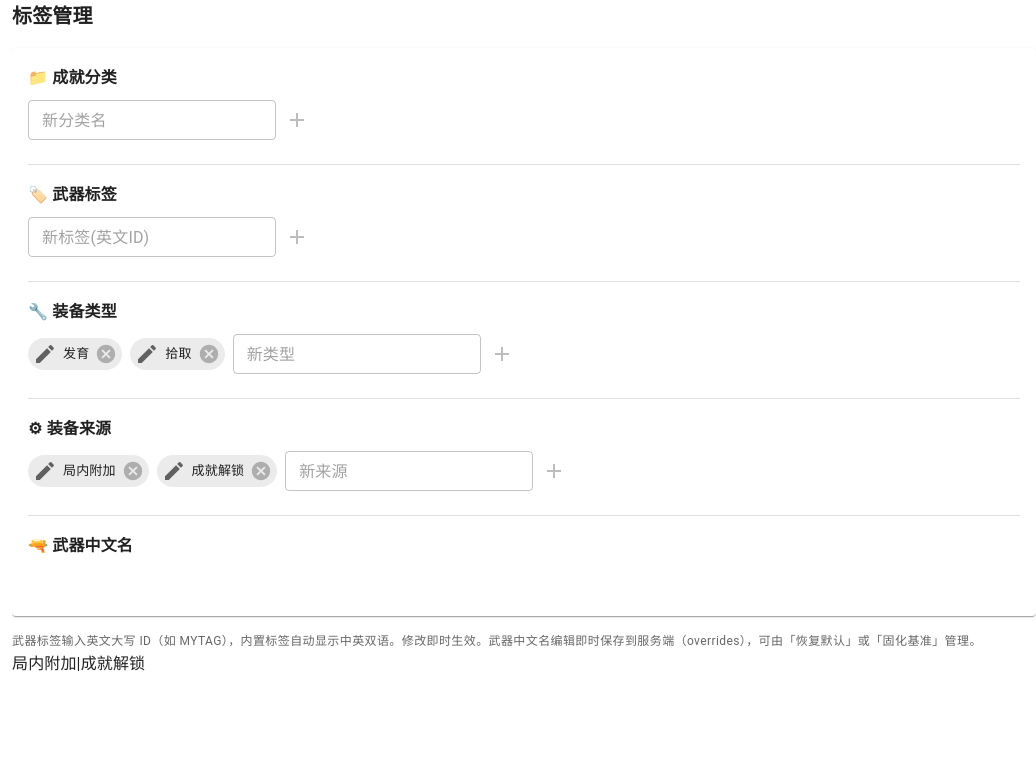
Test: C. 管理页「⚙ 装备来源」独立行 › C/D 一致：来源行新增来源后，editor.getSources() 同步反映（管理页↔卡片同池）
Check: the text with test id "pool" reads "局内附加|成就解锁", box [12,654,145,673]
// 在来源行新增一个来源
Type "新来源X" into the field with placeholder "新来源" at (409, 471), box [285,451,533,491]
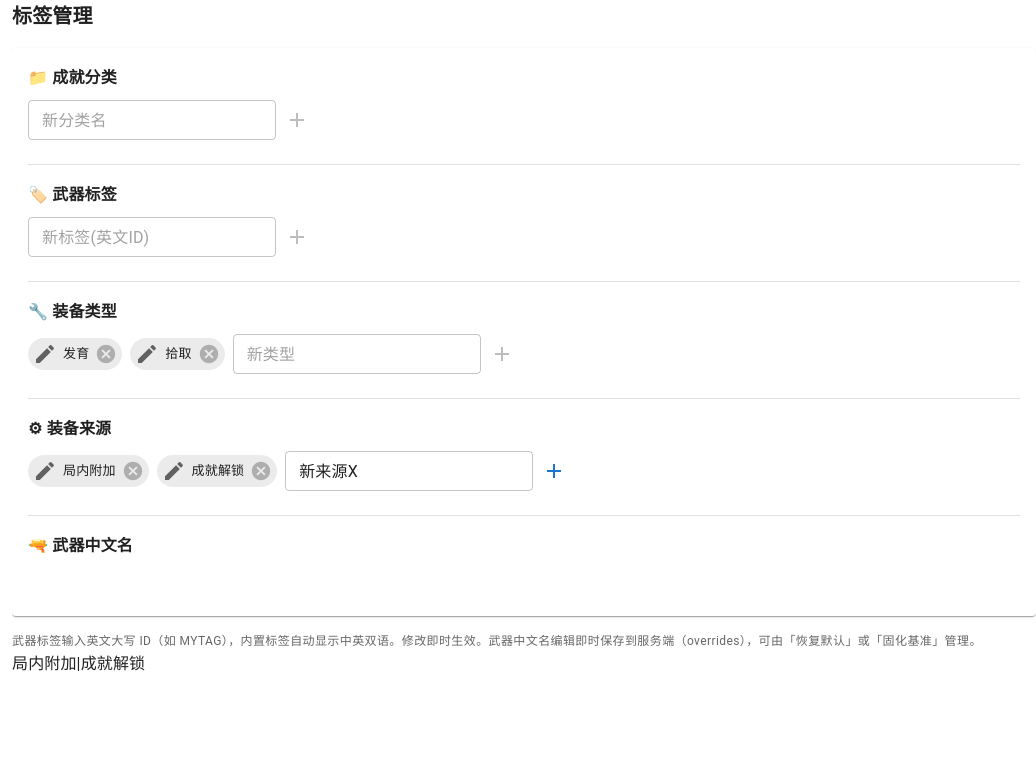
Press Enter in the field with placeholder "新来源", box [285,451,533,491]
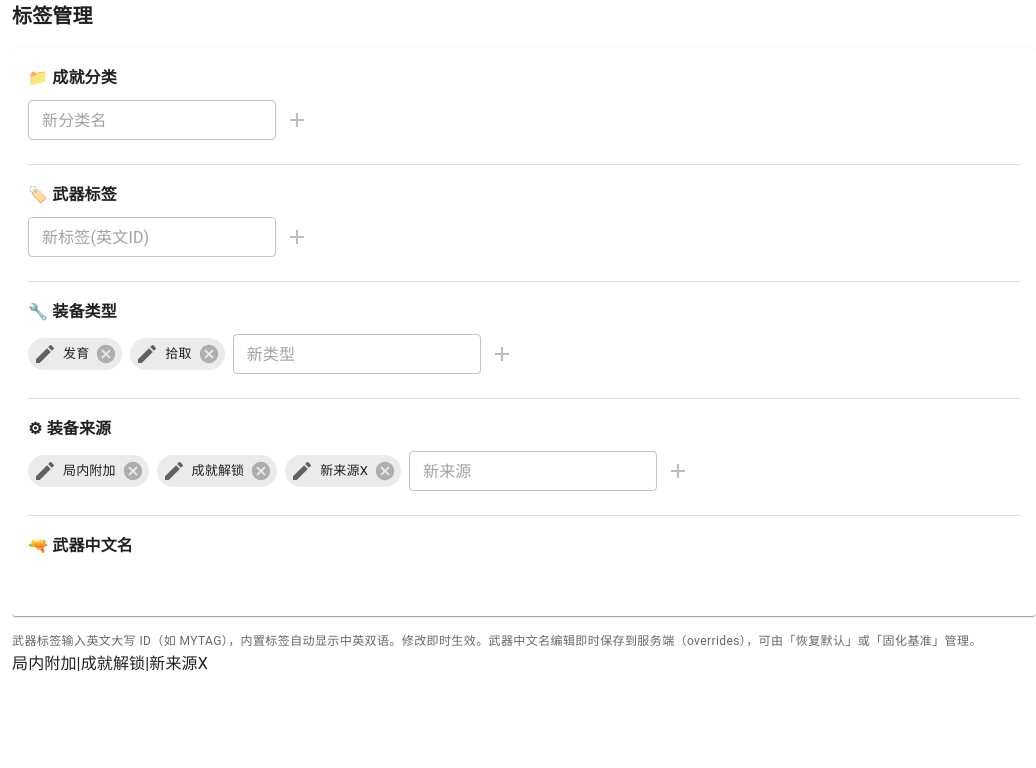
Check: the text with test id "pool" shows "新来源X", box [12,654,208,673]
